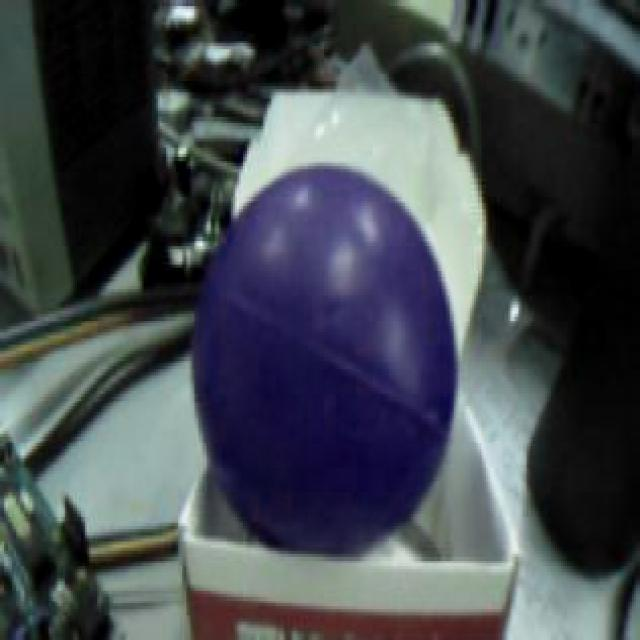BallPurple: (192, 163, 457, 556)
